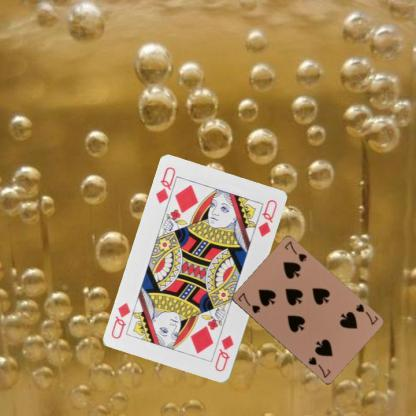7s: (352, 301, 379, 326), (235, 290, 261, 315)
Qd: (153, 164, 179, 210), (212, 333, 235, 373)
